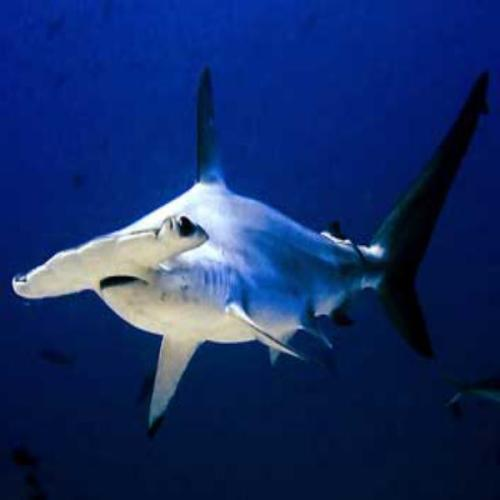shark-endangered: (12, 67, 490, 428)
